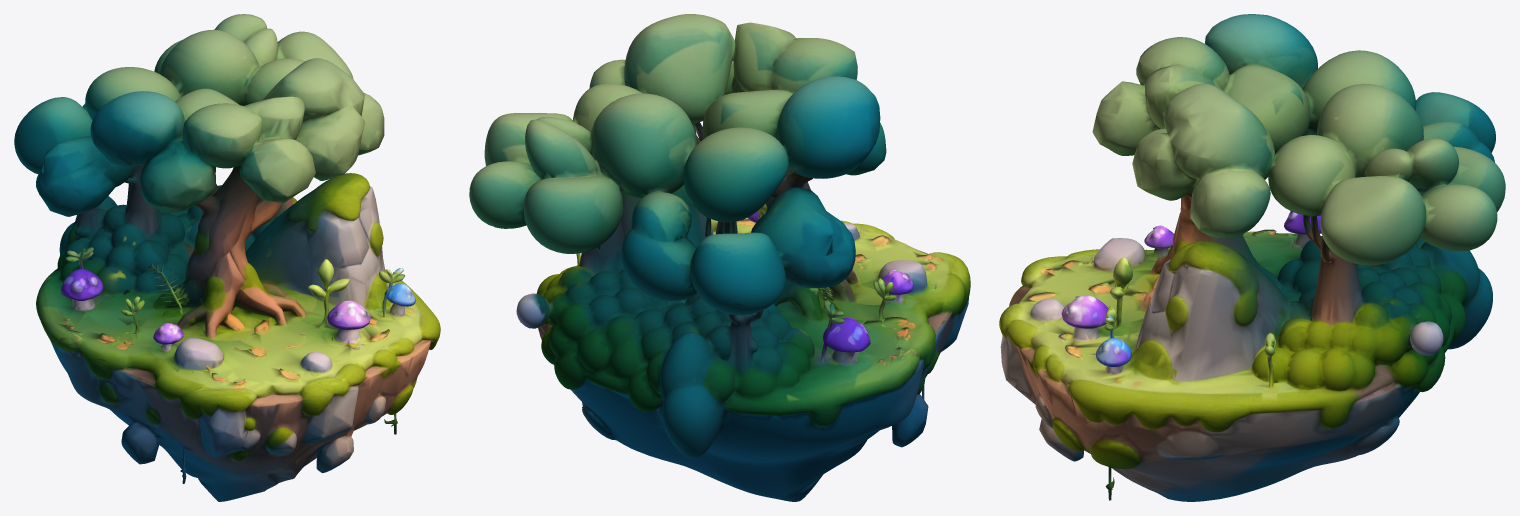
Rendered from purple-mushroom-tree.glb.
3 renders of one model, left to right at view 1: azimuth 30°, elevation 25°; view 2: azimuth 150°, elevation 25°; view 3: azimuth 270°, elevation 25°, orthographic. The views are drawn at different scales.
Visible parts, largest first — view 1: node_0; view 2: node_0; view 3: node_0.
Boxes of the visible parts, left/top/right/bottom form: node_0: left=14, top=14, right=440, bottom=501; node_0: left=469, top=14, right=970, bottom=501; node_0: left=999, top=14, right=1505, bottom=501.
Size of the model in its own units: 0.7752 by 0.9173 by 0.9193.
1 material, 1 textured.
